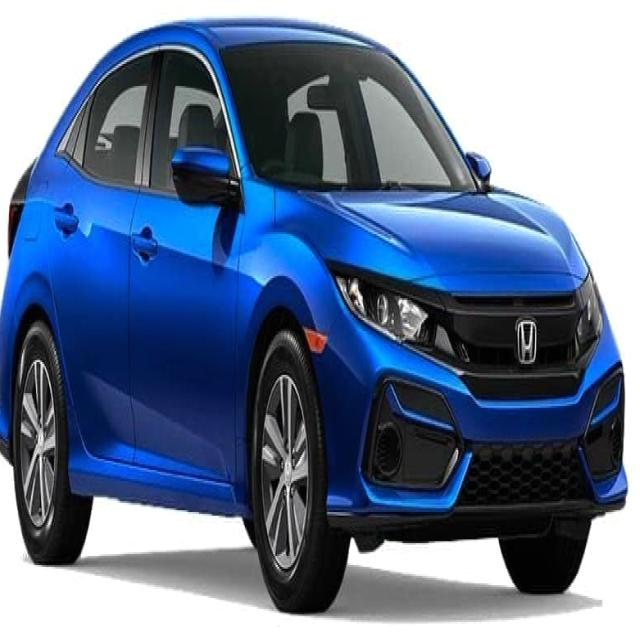blue: (0, 22, 626, 586)
